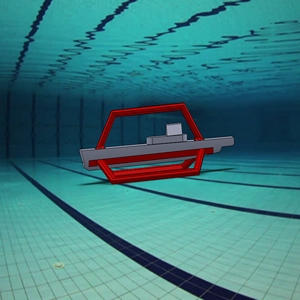submarine: (75, 98, 238, 188)
